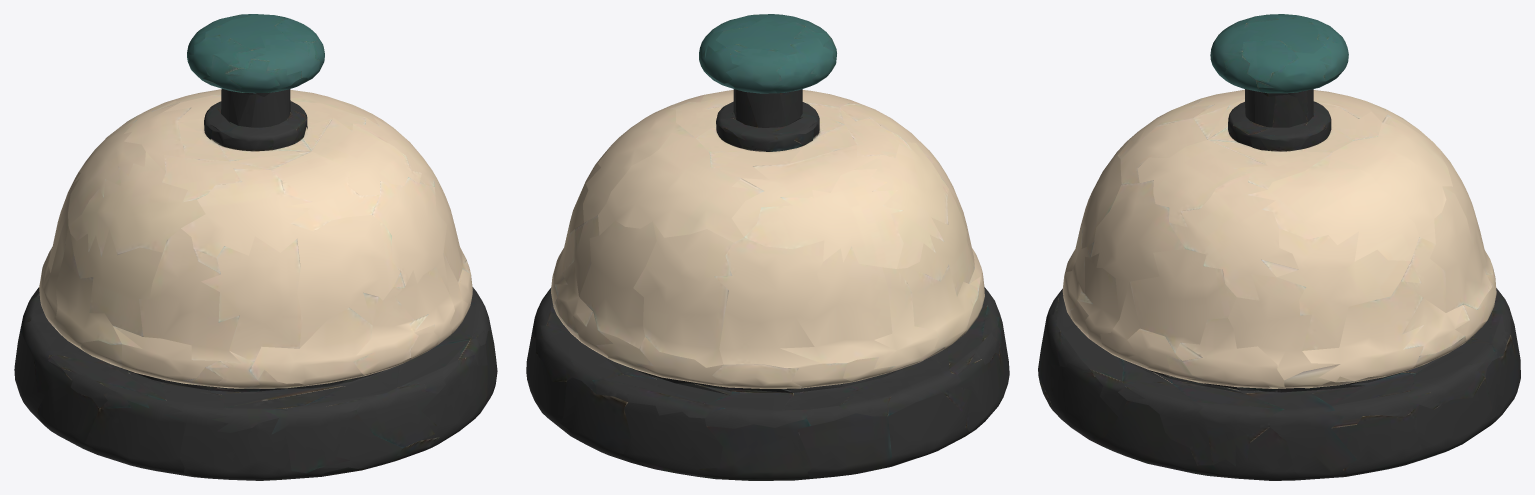
Rendered from serviceBell.glb.
3 renders of one model, left to right at view 1: azimuth 30°, elevation 25°; view 2: azimuth 150°, elevation 25°; view 3: azimuth 270°, elevation 25°, orthographic.
Visible parts, largest first — view 1: Mesh_0; view 2: Mesh_0; view 3: Mesh_0.
Boxes of the visible parts, x1=… form: Mesh_0: x1=14, y1=14, x2=497, y2=480; Mesh_0: x1=526, y1=14, x2=1009, y2=480; Mesh_0: x1=1038, y1=14, x2=1520, y2=480.
Bounding box in the file's own units: 0.0995 × 0.08 × 0.0996.
1 material, 1 textured.
